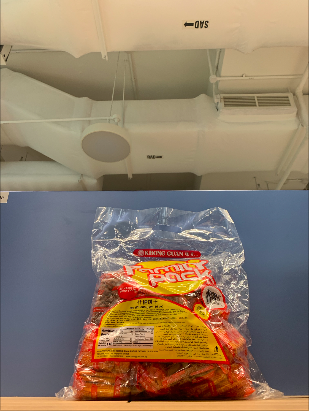Cookies_600-699g: (92, 238, 239, 381)
